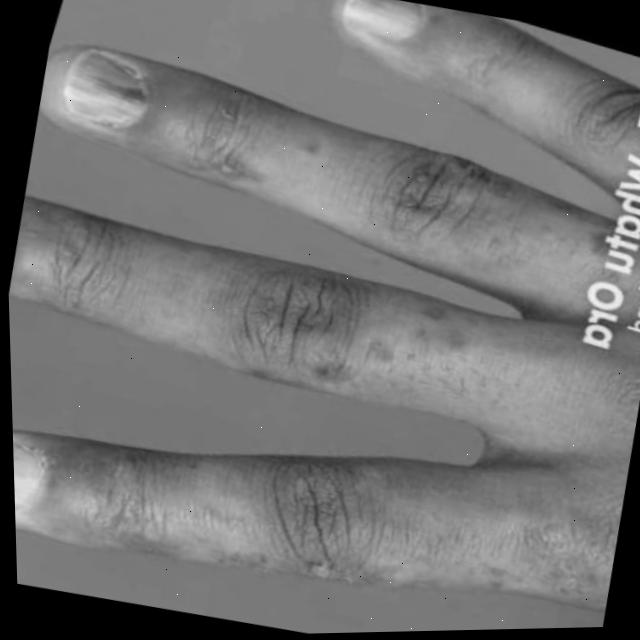Eczema: (49, 412, 624, 639), (196, 97, 588, 311), (306, 281, 499, 418)
